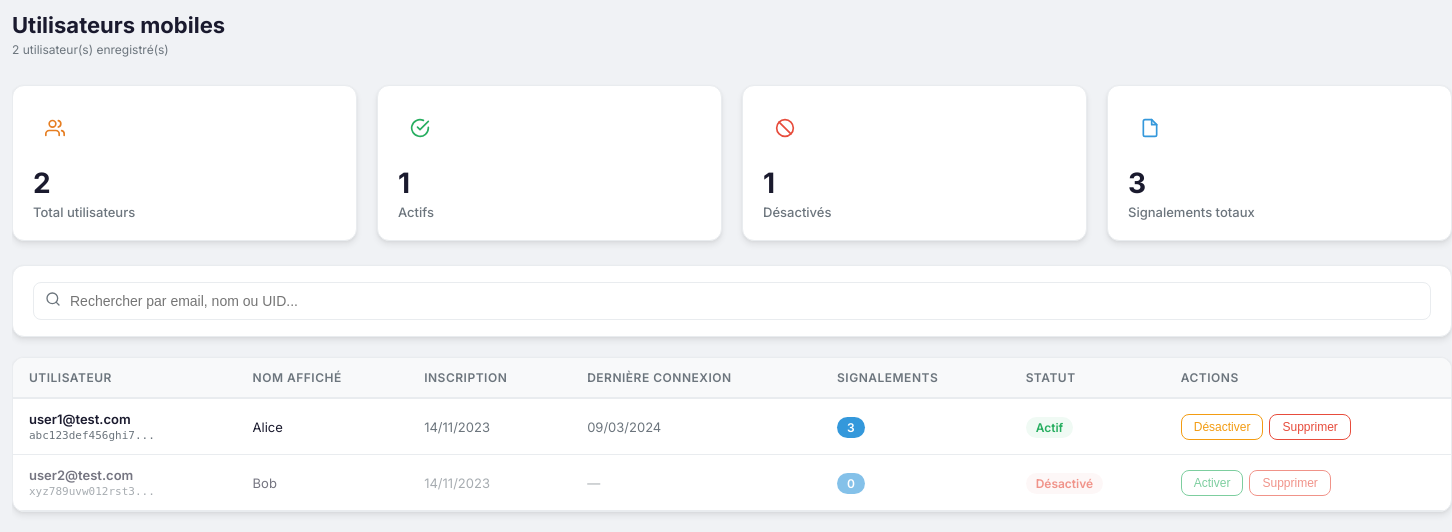
Users › filtre les utilisateurs par email
Expected: the text "user1@test.com" is shown, [29,411,131,427]
Type "user1" into the field with placeholder "Rechercher par email, nom ou UID..." at (732, 301), box [33,282,1431,320]
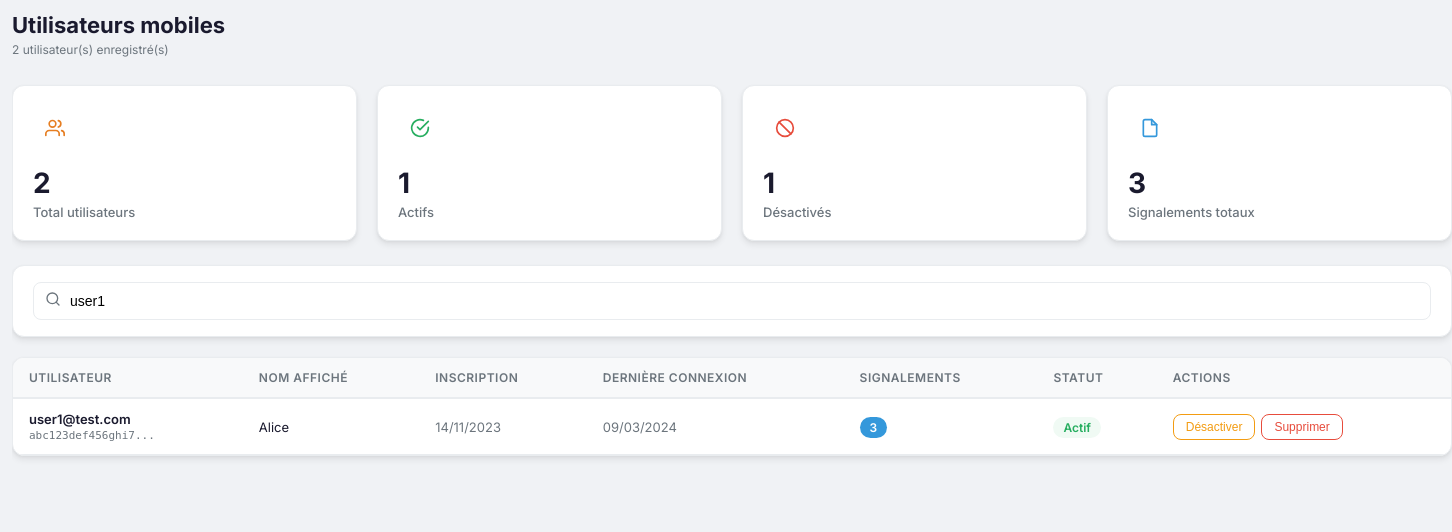
Expected: the text "user1@test.com" is shown, [29,411,131,427]
Expected: the text "user2@test.com" is gone
